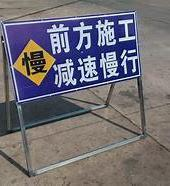sign: (4, 10, 140, 101)
